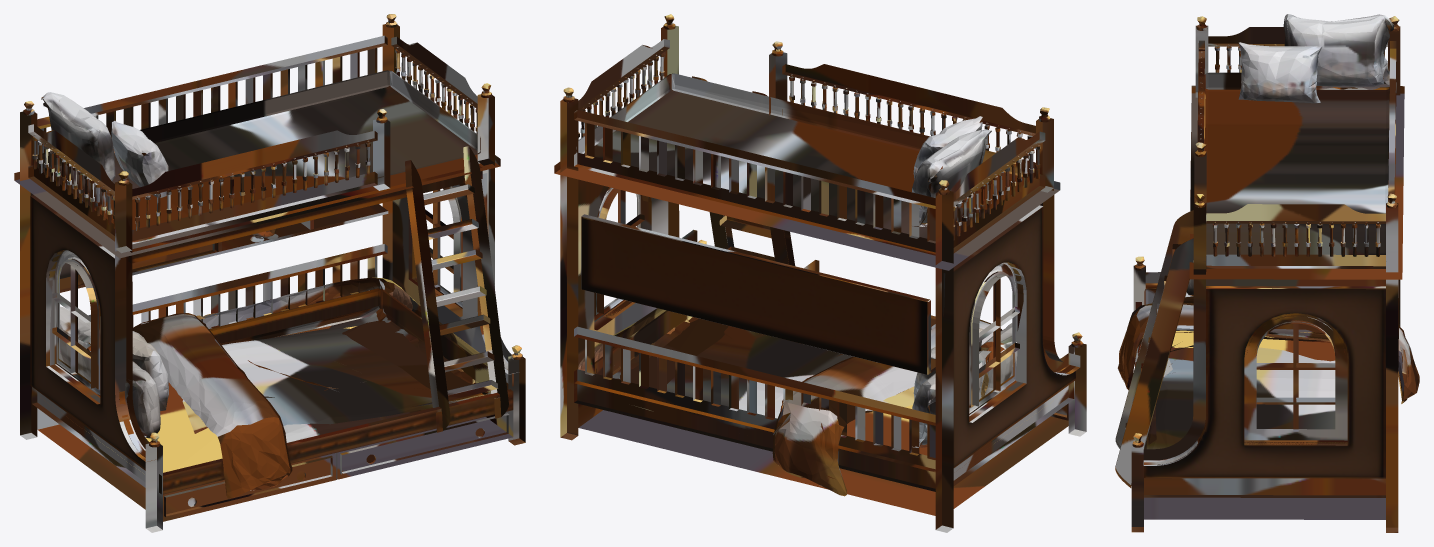
The model's file is edited_mesh.glb.
3 views of the same model, side by side, from view 1: azimuth 30°, elevation 25°; view 2: azimuth 150°, elevation 25°; view 3: azimuth 270°, elevation 25° (orthographic). The views are drawn at different scales.
Visible parts, largest first — view 1: solid_001_wire; view 2: solid_001_wire; view 3: solid_001_wire.
Part boxes in pixels (x1,y1,x2,y2): solid_001_wire: (14,14,525,532); solid_001_wire: (554,14,1086,532); solid_001_wire: (1115,14,1419,532).
Size of the model in its own units: 1.47 by 1.27 by 1.01.
Materials: 1 (1 with a texture image).
